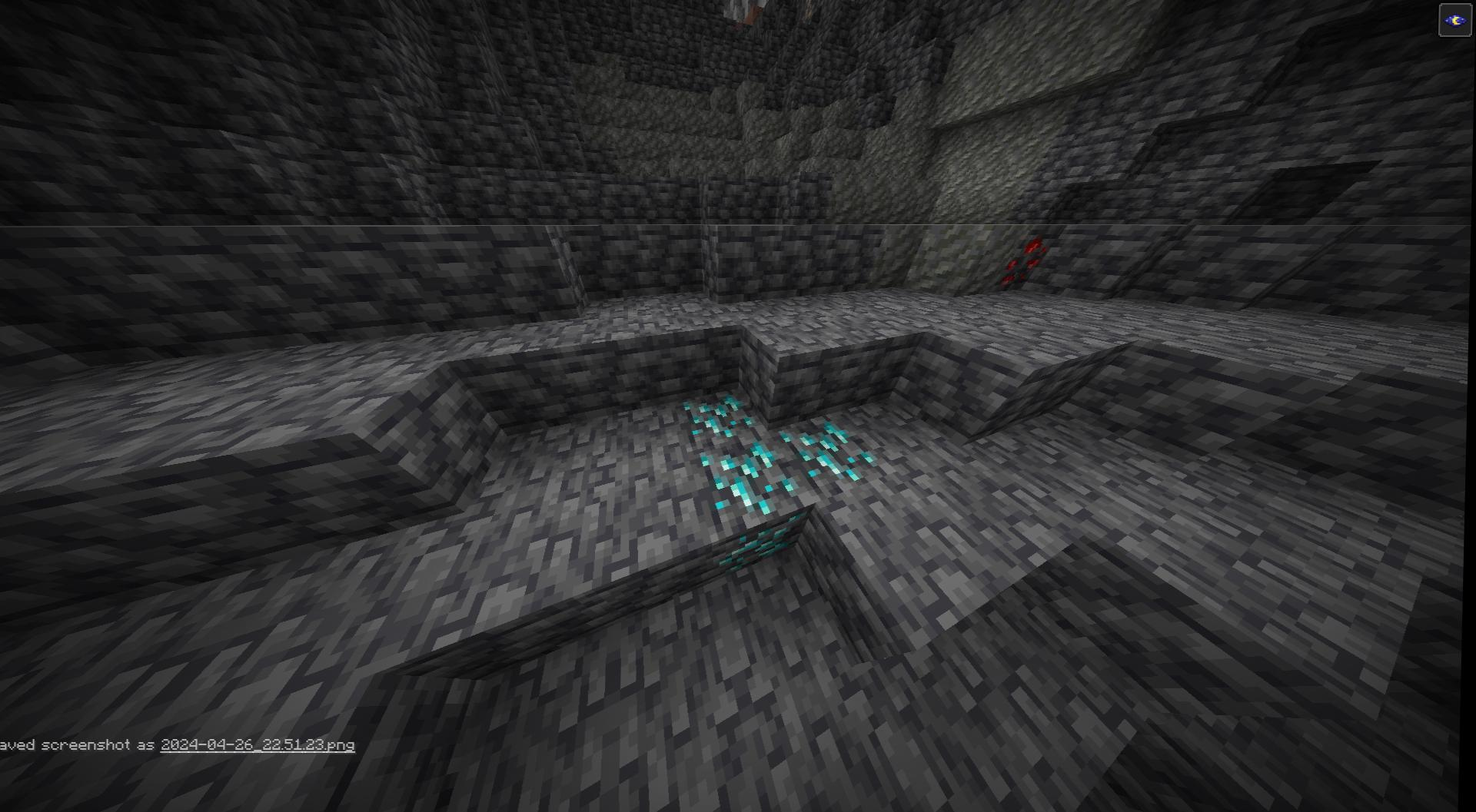diamond ore: (702, 441, 797, 523), (783, 419, 882, 488), (726, 511, 811, 576), (681, 393, 757, 439)
redstone ore: (1002, 238, 1049, 286)
